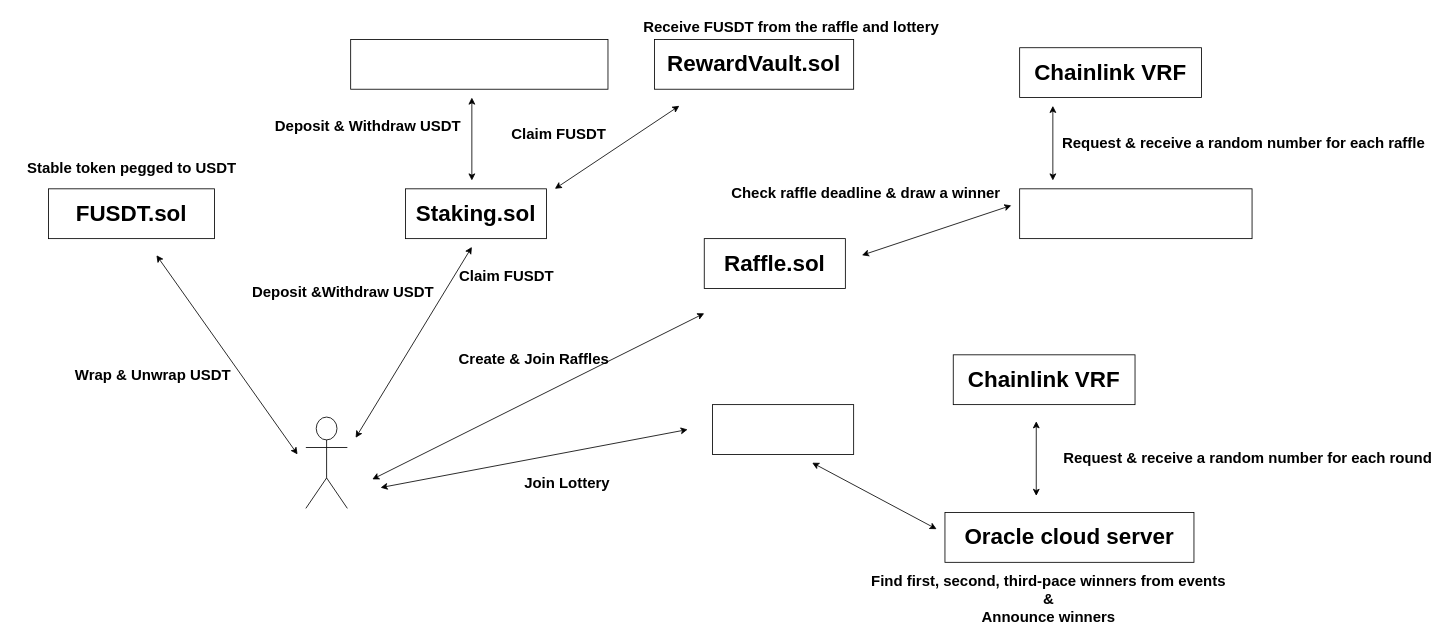
Some shapes in this 1449 by 641 pixel diagram are drawn without their labels. The centre of each missing label's shape, as x and y in pixels:
"AAVE V3 POOL (USDT)" goes at (x=479, y=64).
"Chainlink Upkeep" goes at (x=1135, y=213).
"Lottery.sol" goes at (x=783, y=429).
"USER" goes at (x=326, y=462).
